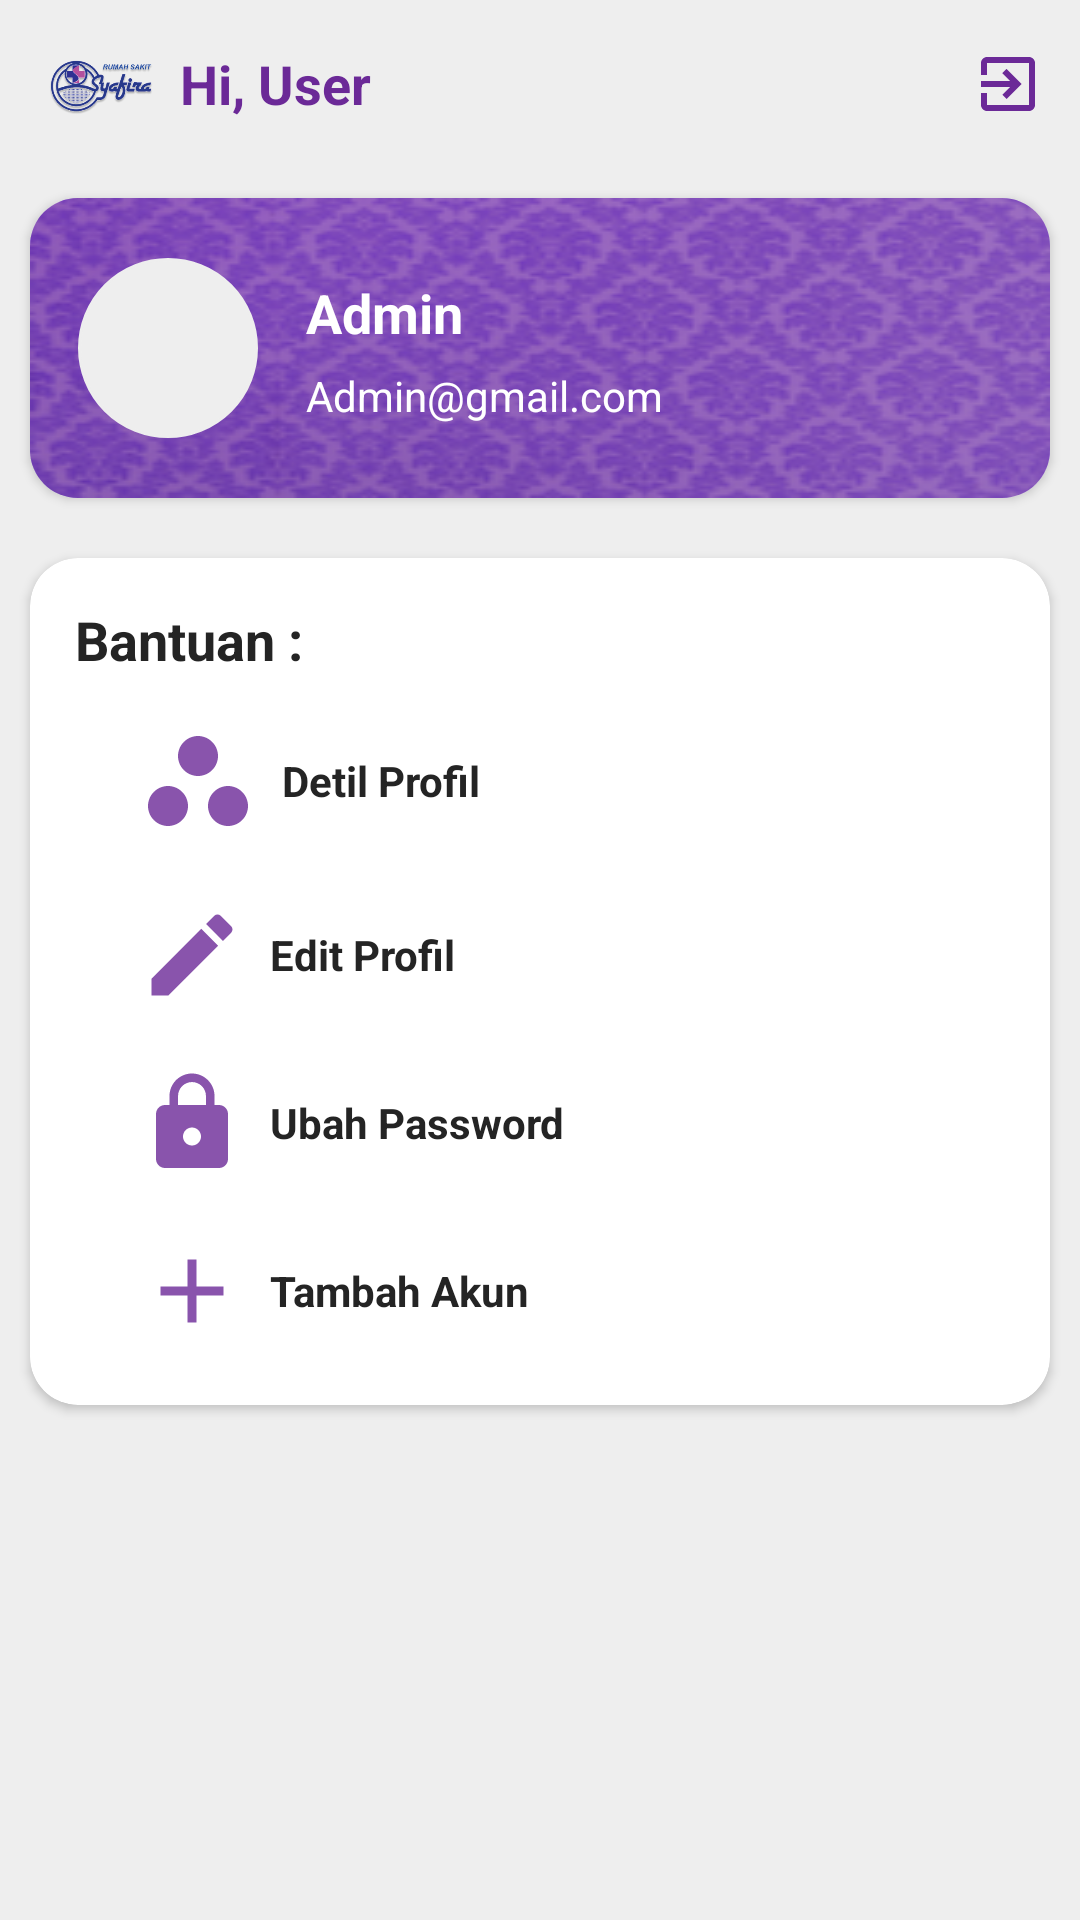

Icons on this 1080*1920 Android screen, each with the point to tap as (x=x, y=y):
Add Icon: (x=192, y=1291)
Lock Icon: (x=192, y=1120)
